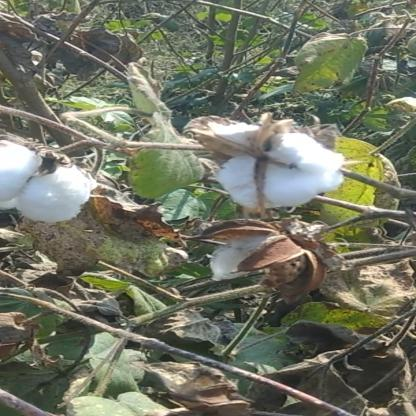cotton_ready: (174, 120, 351, 217)
